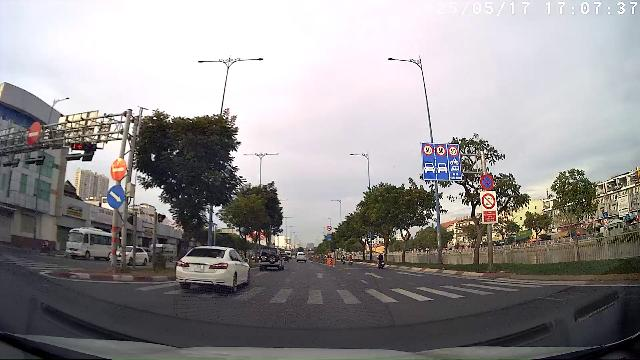102-cam-di-nguoc-chieu: (111, 158, 127, 180), (27, 121, 41, 145)
127-toc-do-toi-da-50: (448, 146, 458, 156)
127-toc-do-toi-da-60: (422, 144, 433, 156), (436, 146, 446, 156)
130-cam-dung-va-do-xe: (481, 174, 494, 190)
302a-huong-phai-di-vong-chuong-ngai-vat-1: (107, 185, 125, 209)
